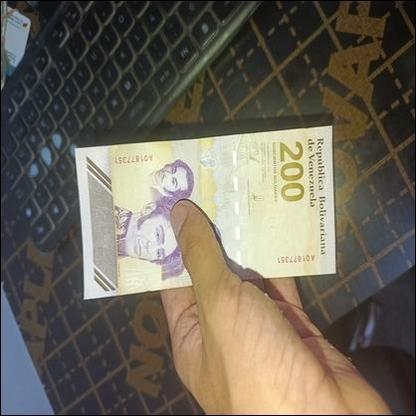two_hundred-front-vef: (73, 124, 337, 300)
